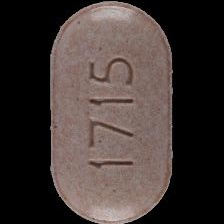0179-0191: (0, 0, 224, 224)
